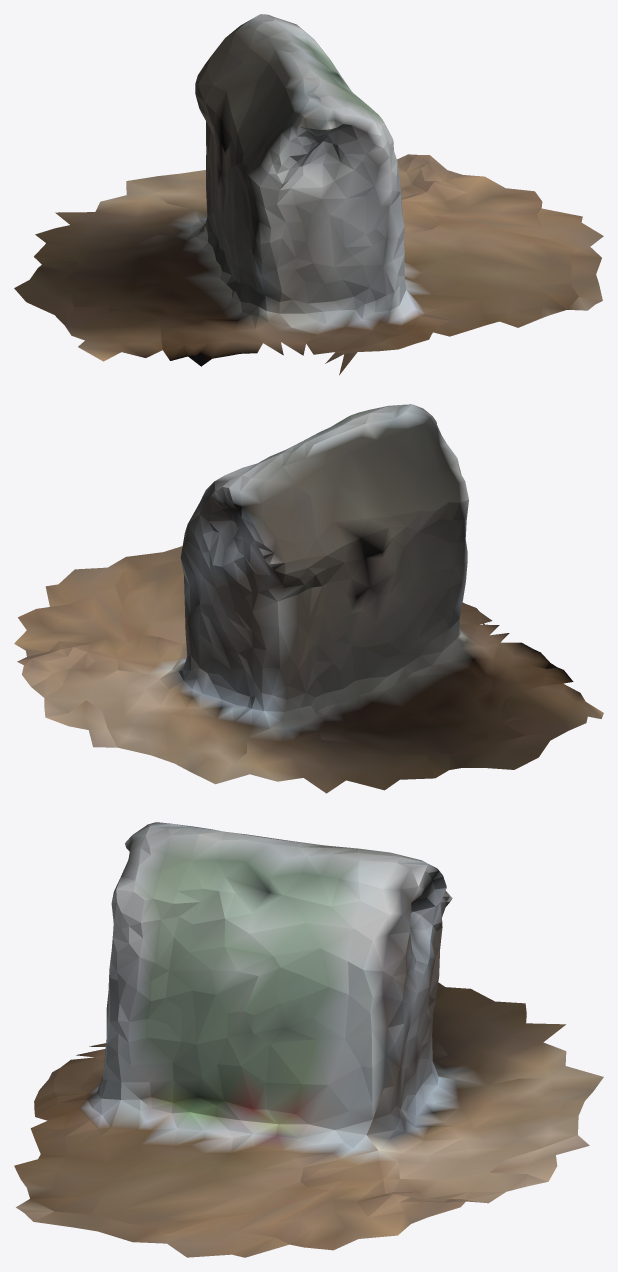
Rendered from coffee-vertex-color.obj.
3 renders of one model, top to bottom at view 1: azimuth 30°, elevation 25°; view 2: azimuth 150°, elevation 25°; view 3: azimuth 270°, elevation 25°, orthographic. The views are drawn at different scales.
Visible parts, largest first — view 1: textured_output; view 2: textured_output; view 3: textured_output.
Part boxes in pixels (left/top/right/bottom): textured_output: left=14, top=14, right=603, bottom=375; textured_output: left=14, top=404, right=603, bottom=793; textured_output: left=14, top=822, right=603, bottom=1257.
Size of the model in its own units: 0.2987 by 0.1314 by 0.2492.
